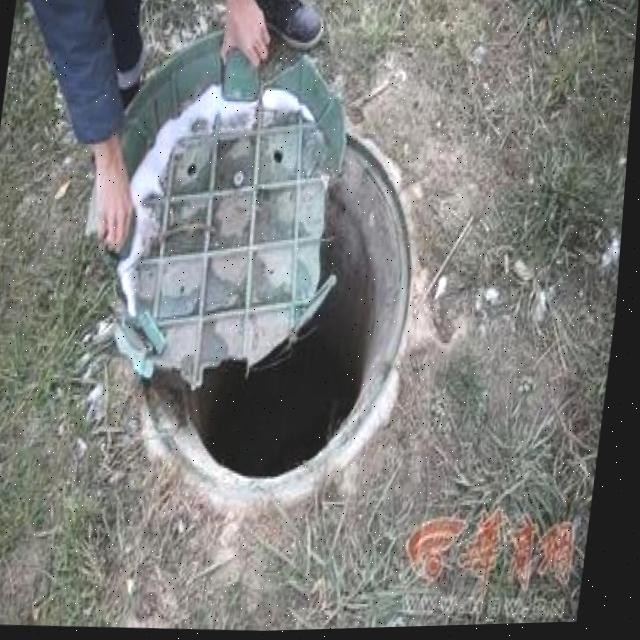manhole: (92, 77, 441, 503)
